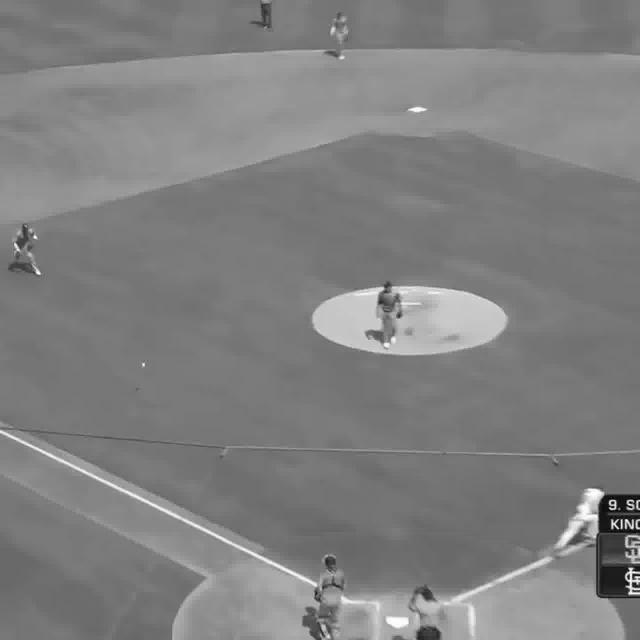base: (386, 616, 410, 628), (406, 107, 427, 111)
baseball: (142, 362, 147, 368)
shoe: (544, 550, 562, 559), (34, 270, 44, 278), (390, 338, 397, 346), (384, 343, 388, 350)
